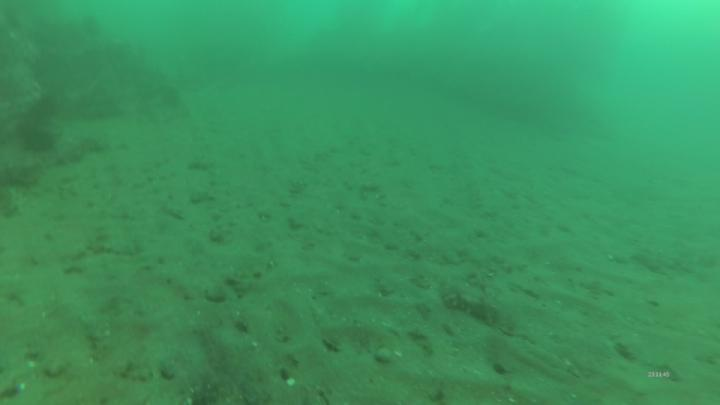holothurian: (437, 292, 527, 338)
